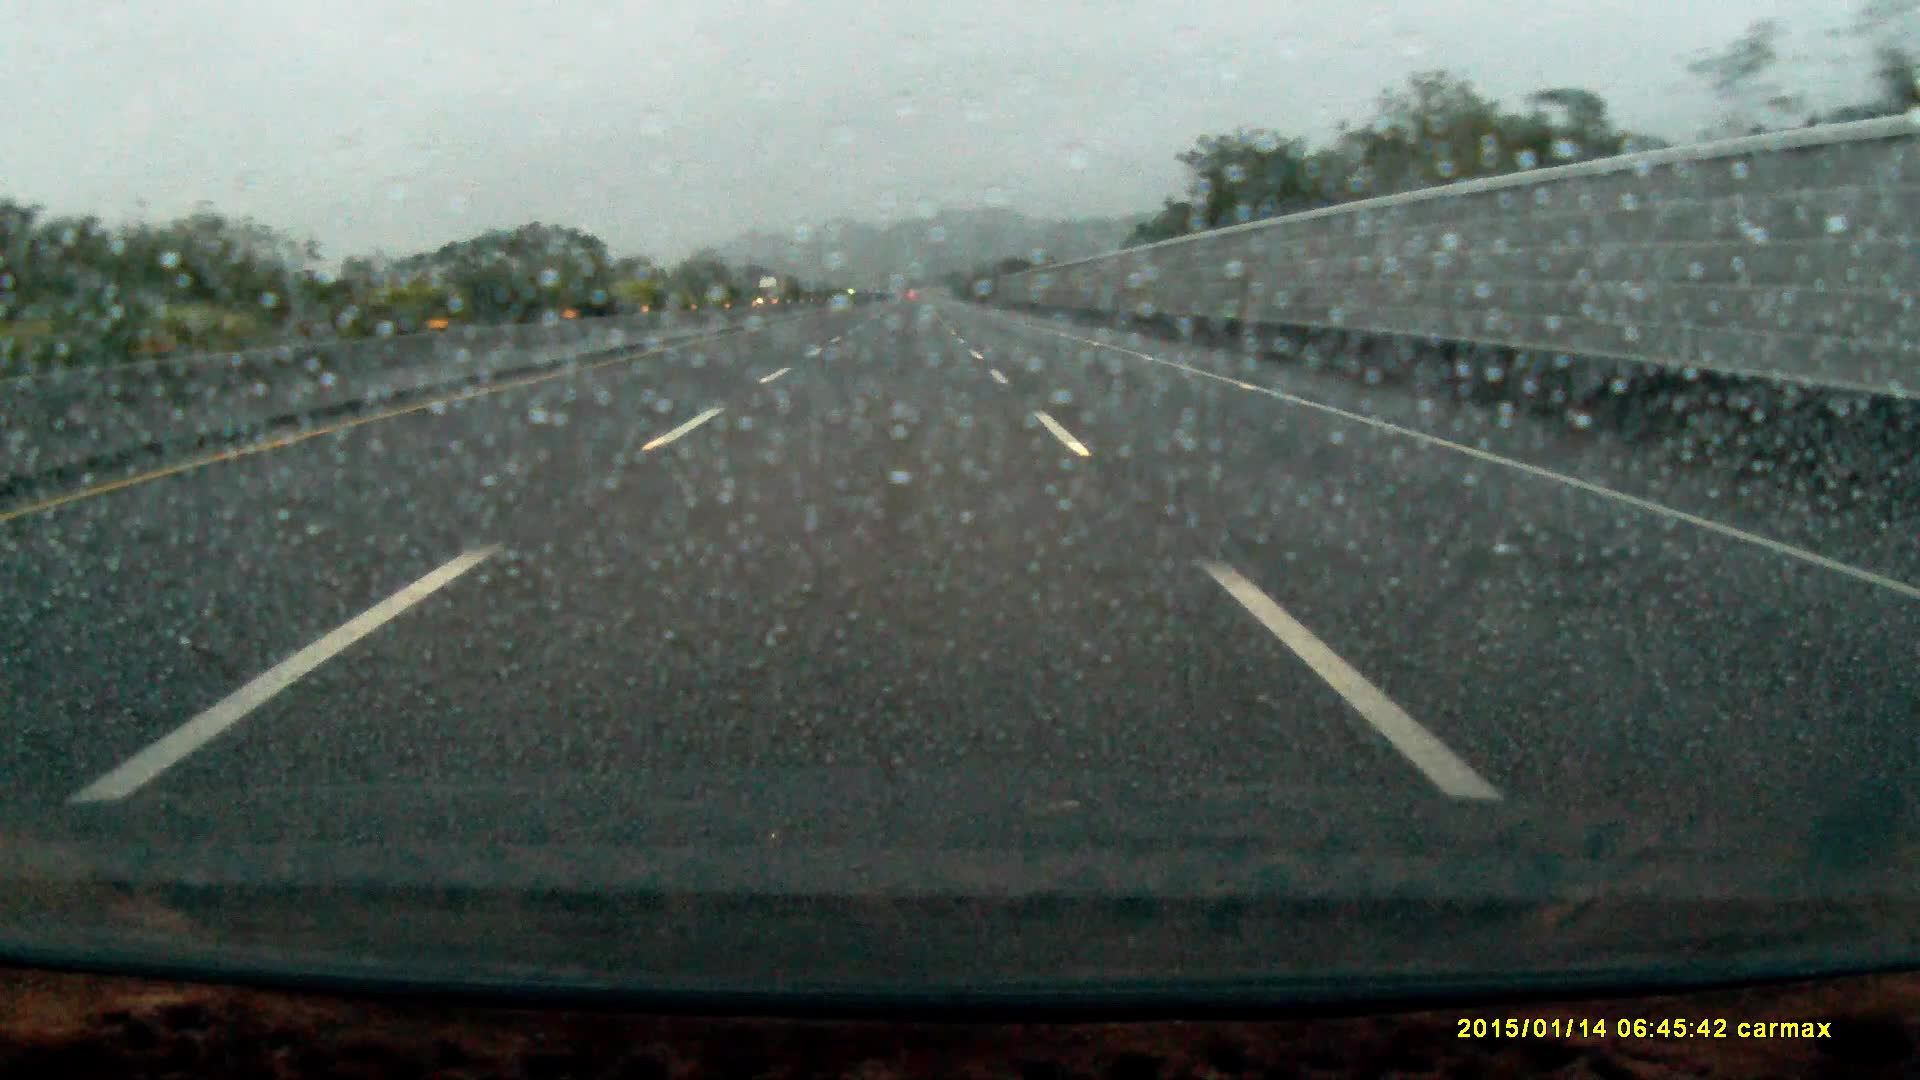vehicle: (757, 278, 785, 307)
